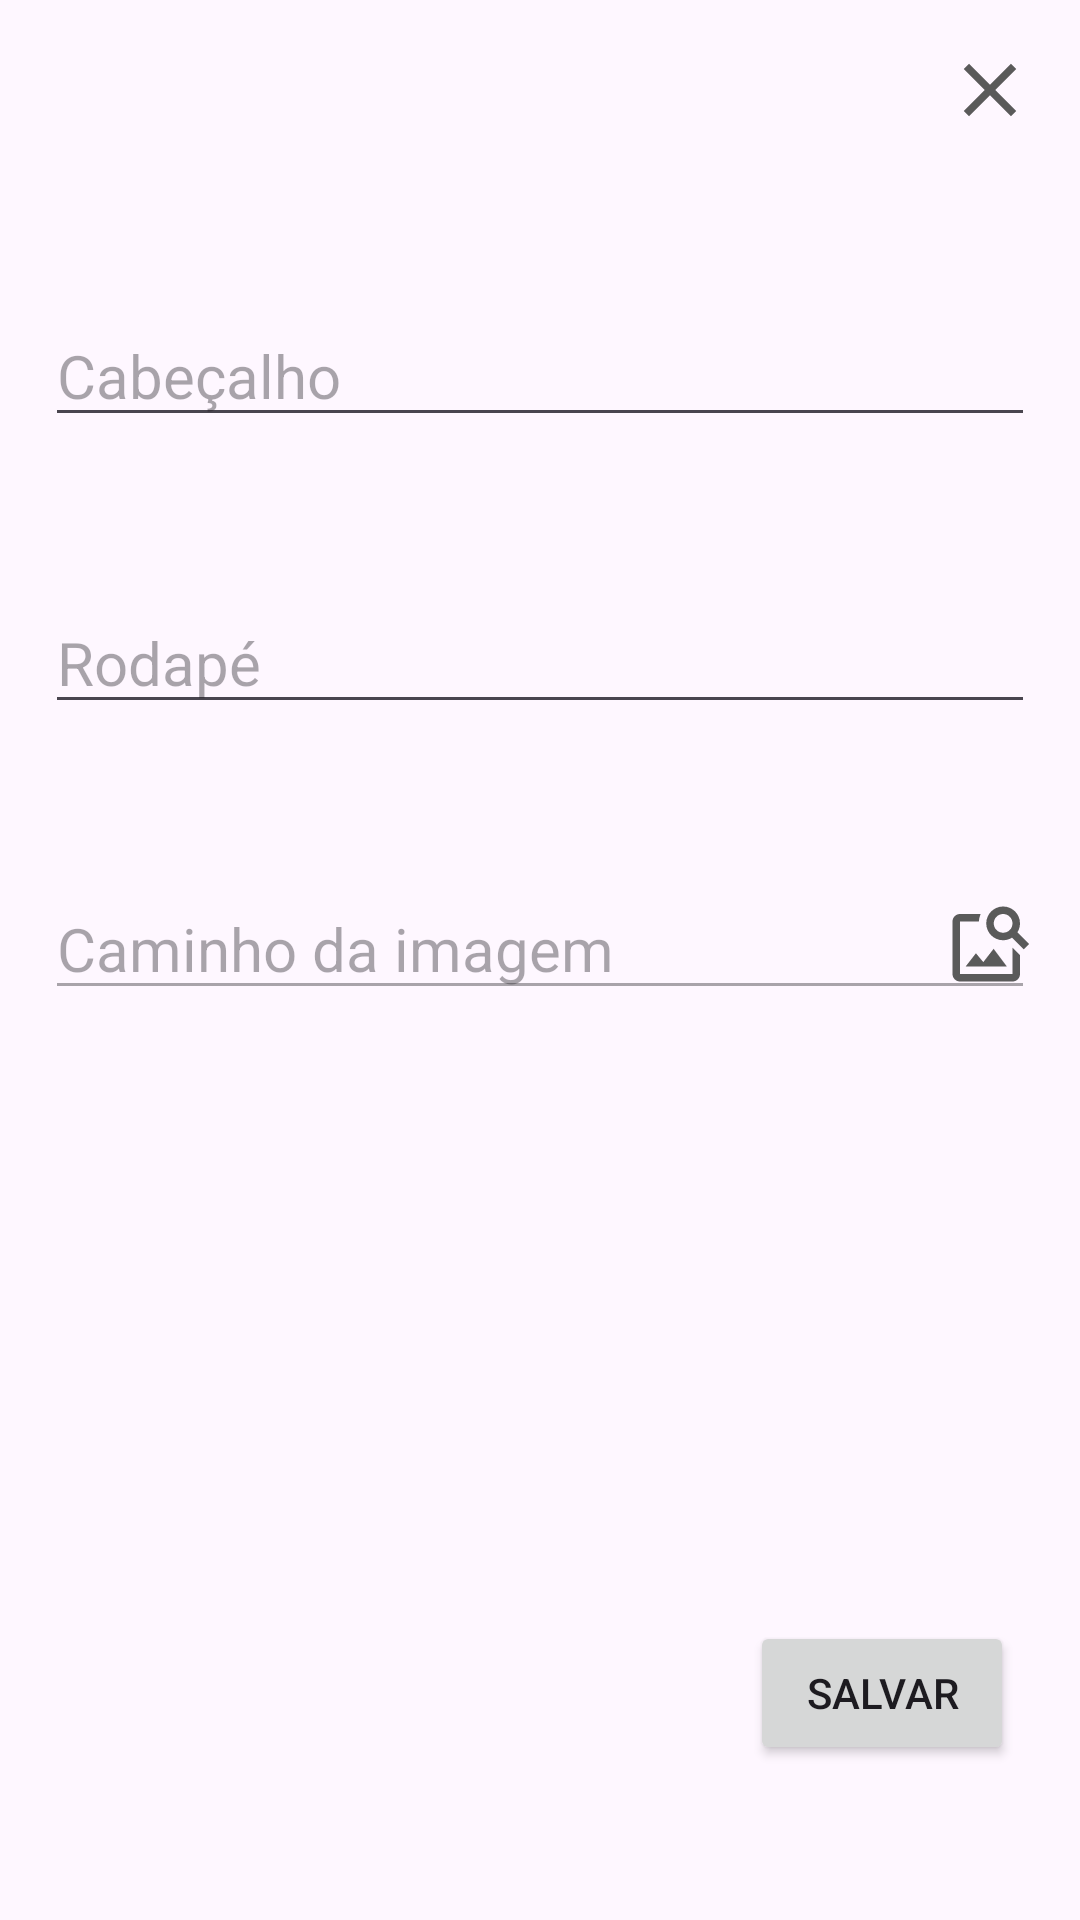

Icon click points for this 1080 × 1920 phone screenshot, format (x=x, y=y):
close: (x=990, y=90)
search: (x=990, y=944)
